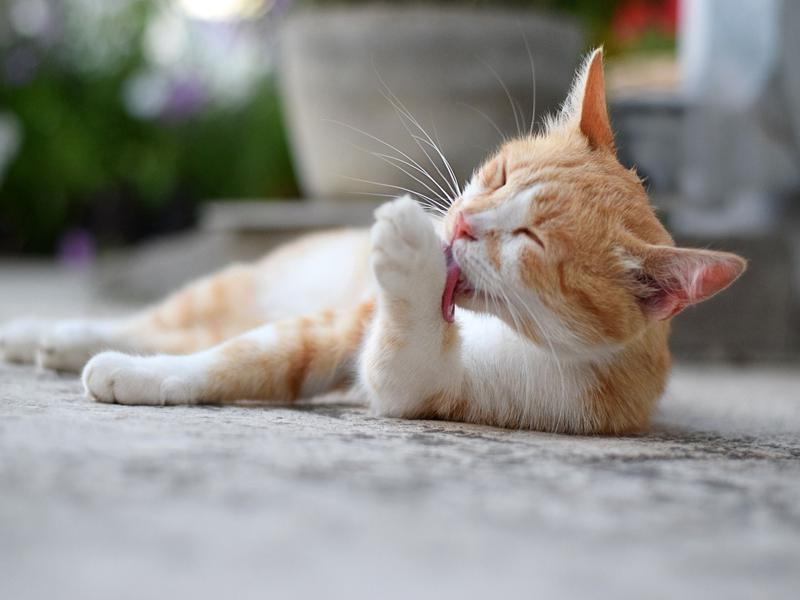cat: (74, 41, 745, 435)
